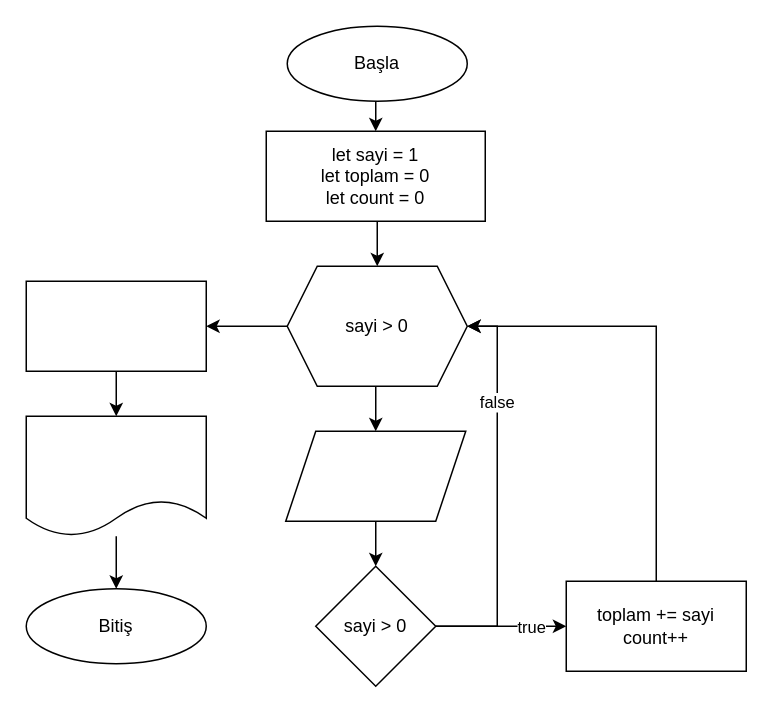
Some shapes in this 773 by 713 pixel diagram are drawn without their labels. The centre of each missing label's shape, as x and y in pixels:
"sayi" belongs at (375,475).
"toplam" belongs at (115,475).
"toplam /= count" belongs at (115,325).
